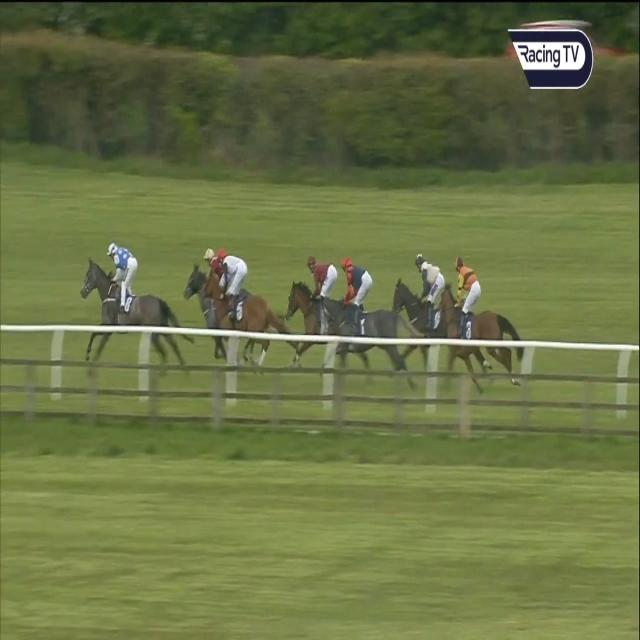horses-racing: (81, 239, 187, 382), (316, 249, 401, 389), (439, 253, 520, 391), (210, 246, 278, 370), (389, 251, 457, 369), (286, 252, 346, 372), (180, 234, 224, 355)
